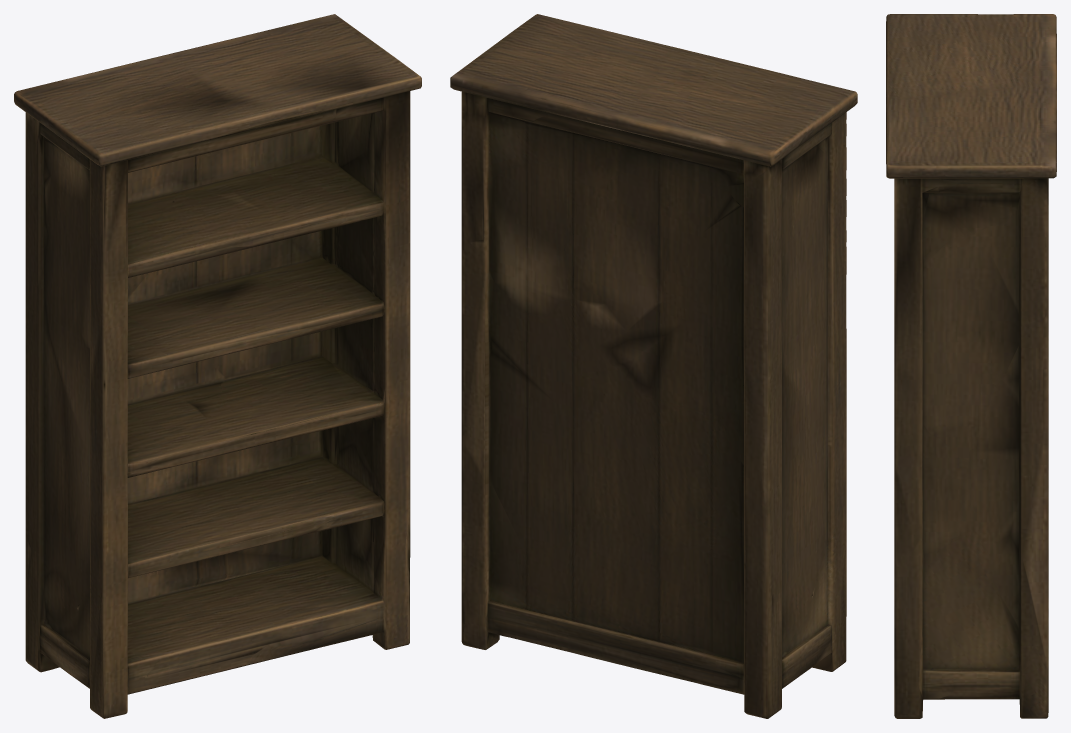
The model's file is EstanteriaRural.glb.
3 renders of one model, left to right at view 1: azimuth 30°, elevation 25°; view 2: azimuth 150°, elevation 25°; view 3: azimuth 270°, elevation 25°, orthographic. The views are drawn at different scales.
Visible parts, largest first — view 1: node_0; view 2: node_0; view 3: node_0.
Part boxes in pixels (x1,y1,x2,y2): node_0: (14,14,421,718); node_0: (450,14,857,718); node_0: (886,14,1056,718).
Bounding box in the file's own units: 0.5984 × 1.01 × 0.2808.
1 material, 1 textured.
